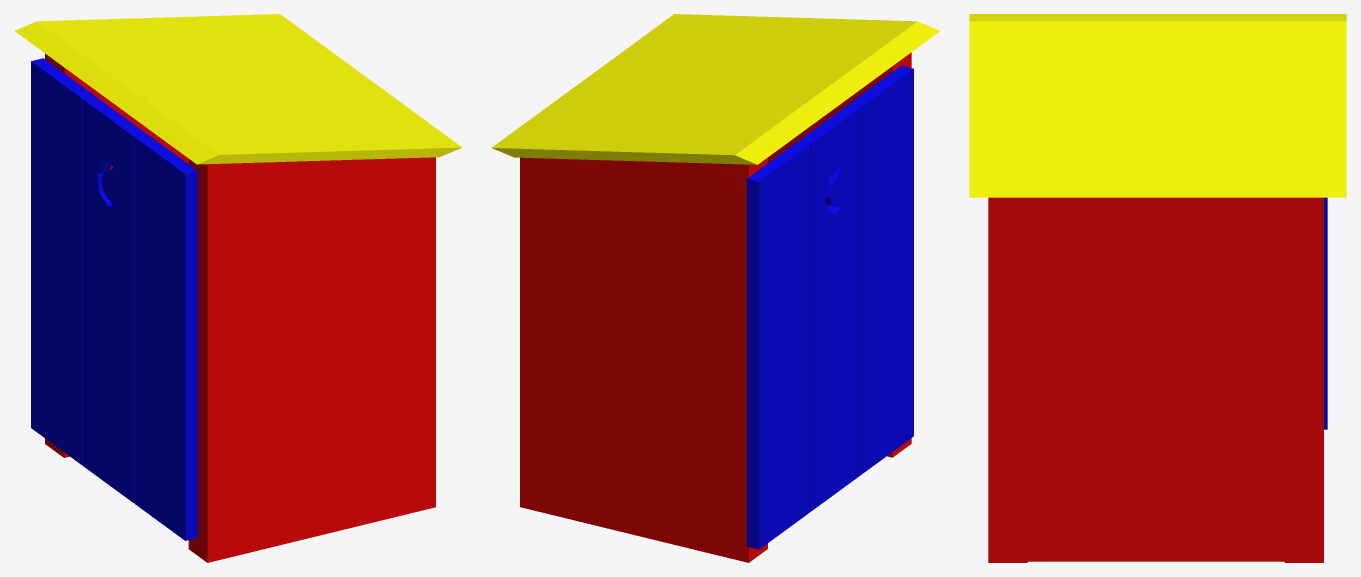
Rendered from outhouse.fbx.
3 renders of one model, left to right at view 1: azimuth 30°, elevation 25°; view 2: azimuth 150°, elevation 25°; view 3: azimuth 270°, elevation 25°, orthographic. The views are drawn at different scales.
Parts seen in each view (by area): view 1: Cube, Cube.003, Cube.006; view 2: Cube, Cube.003, Cube.006; view 3: Cube, Cube.006, Cube.003.
Boxes of the visible parts, left/top/right/bottom form: Cube: left=45, top=53, right=435, bottom=562; Cube.003: left=31, top=58, right=197, bottom=540; Cube.006: left=15, top=14, right=461, bottom=164; Cube: left=520, top=52, right=911, bottom=562; Cube.003: left=746, top=65, right=913, bottom=549; Cube.006: left=491, top=14, right=939, bottom=164; Cube: left=988, top=197, right=1323, bottom=562; Cube.006: left=969, top=14, right=1346, bottom=197; Cube.003: left=1324, top=197, right=1327, bottom=429.
Bounding box in the file's own units: 601 × 894 × 715.
